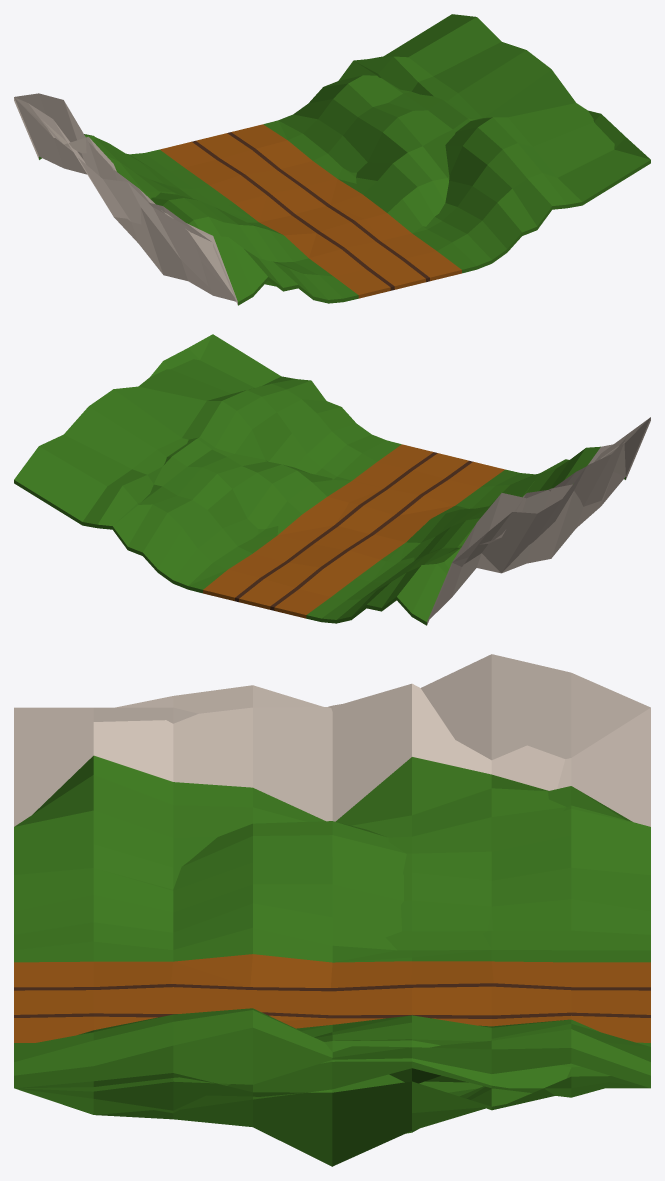
The model's file is RoadBlocksModel.glb.
The picture shows the model from 3 angles, top to bottom: view 1: azimuth 30°, elevation 25°; view 2: azimuth 150°, elevation 25°; view 3: azimuth 270°, elevation 25°; orthographic projection. The views are drawn at different scales.
Parts seen in each view (by area): view 1: RoadBlock1Model, RoadBlock3Model, RoadBlock2Model; view 2: RoadBlock1Model, RoadBlock3Model, RoadBlock2Model; view 3: RoadBlock1Model, RoadBlock2Model, RoadBlock3Model.
Part boxes in pixels (x1,y1,x2,y2): RoadBlock1Model: [14, 14, 650, 305]; RoadBlock3Model: [14, 60, 475, 301]; RoadBlock2Model: [15, 97, 650, 298]; RoadBlock1Model: [14, 334, 650, 625]; RoadBlock3Model: [113, 419, 647, 618]; RoadBlock2Model: [150, 334, 648, 621]; RoadBlock1Model: [14, 683, 650, 1091]; RoadBlock2Model: [15, 685, 650, 1166]; RoadBlock3Model: [14, 654, 650, 1114].
Bounding box in the file's own units: 13.03 × 4.08 × 10.
Materials: 1 (1 with a texture image).
